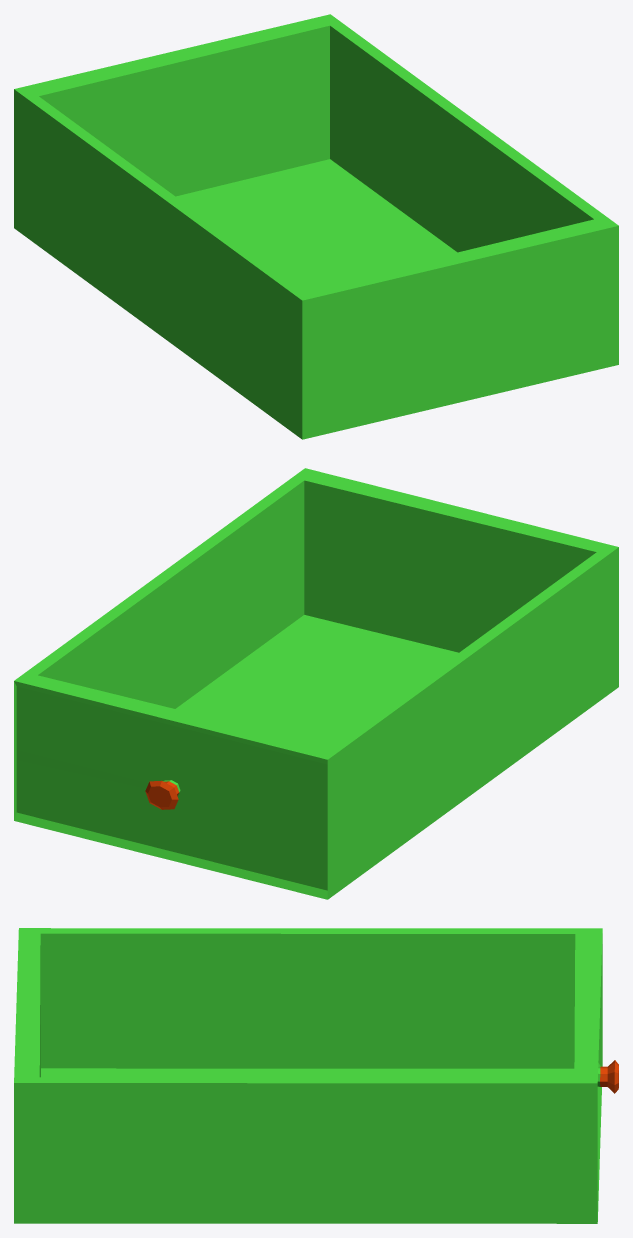
File: GGJ-Teacher-Desk-Drawer-small-bottom.fbx
3 renders of one model, top to bottom at view 1: azimuth 30°, elevation 25°; view 2: azimuth 150°, elevation 25°; view 3: azimuth 270°, elevation 25°, orthographic.
Visible parts, largest first — view 1: Teacher-Desk-Drawer-small-bottom; view 2: Teacher-Desk-Drawer-small-bottom; view 3: Teacher-Desk-Drawer-small-bottom.
Boxes of the visible parts, x1,y1,x2,y2 form: Teacher-Desk-Drawer-small-bottom: [14, 14, 618, 439]; Teacher-Desk-Drawer-small-bottom: [14, 468, 618, 899]; Teacher-Desk-Drawer-small-bottom: [14, 928, 618, 1223].
Size of the model in its own units: 108 by 179 by 45.78.
